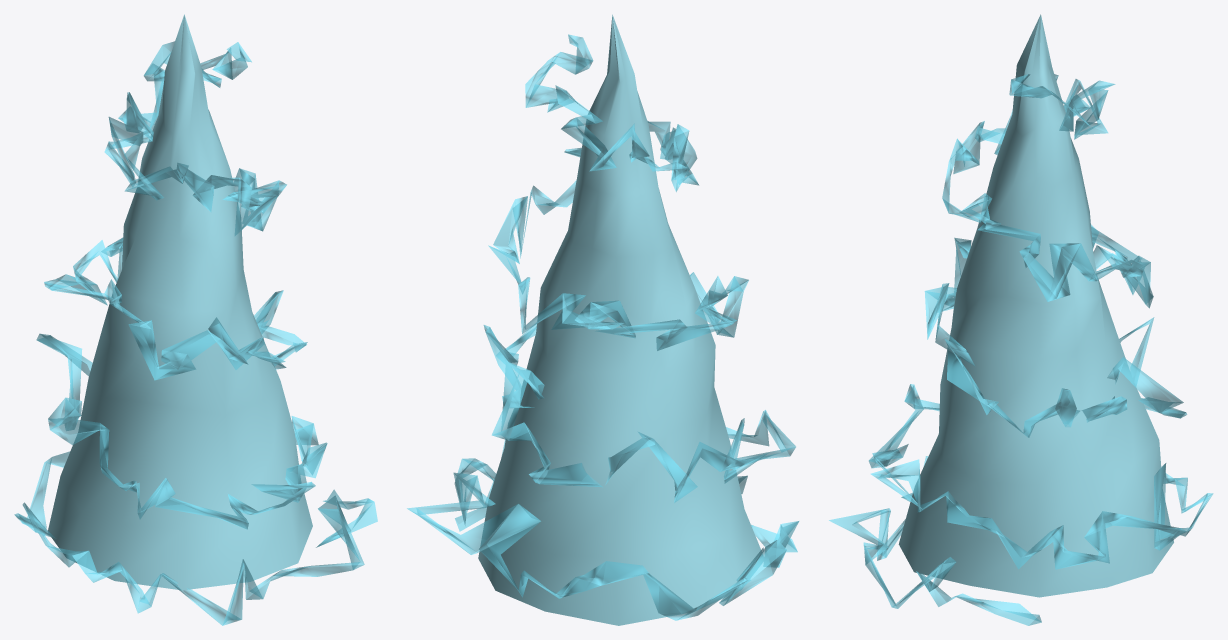
The model's file is Beam8.FBX.
3 renders of one model, left to right at view 1: azimuth 30°, elevation 25°; view 2: azimuth 150°, elevation 25°; view 3: azimuth 270°, elevation 25°, orthographic. The views are drawn at different scales.
Visible parts, largest first — view 1: Cone001, Helix001; view 2: Cone001, Helix001; view 3: Cone001, Helix001.
Part boxes in pixels (bbox=[...]): Cone001: bbox=[48, 14, 312, 590]; Helix001: bbox=[14, 41, 377, 625]; Cone001: bbox=[478, 14, 763, 625]; Helix001: bbox=[407, 34, 799, 620]; Cone001: bbox=[898, 14, 1173, 597]; Helix001: bbox=[829, 74, 1213, 625].
Bounding box in the file's own units: 514 × 882 × 551.
